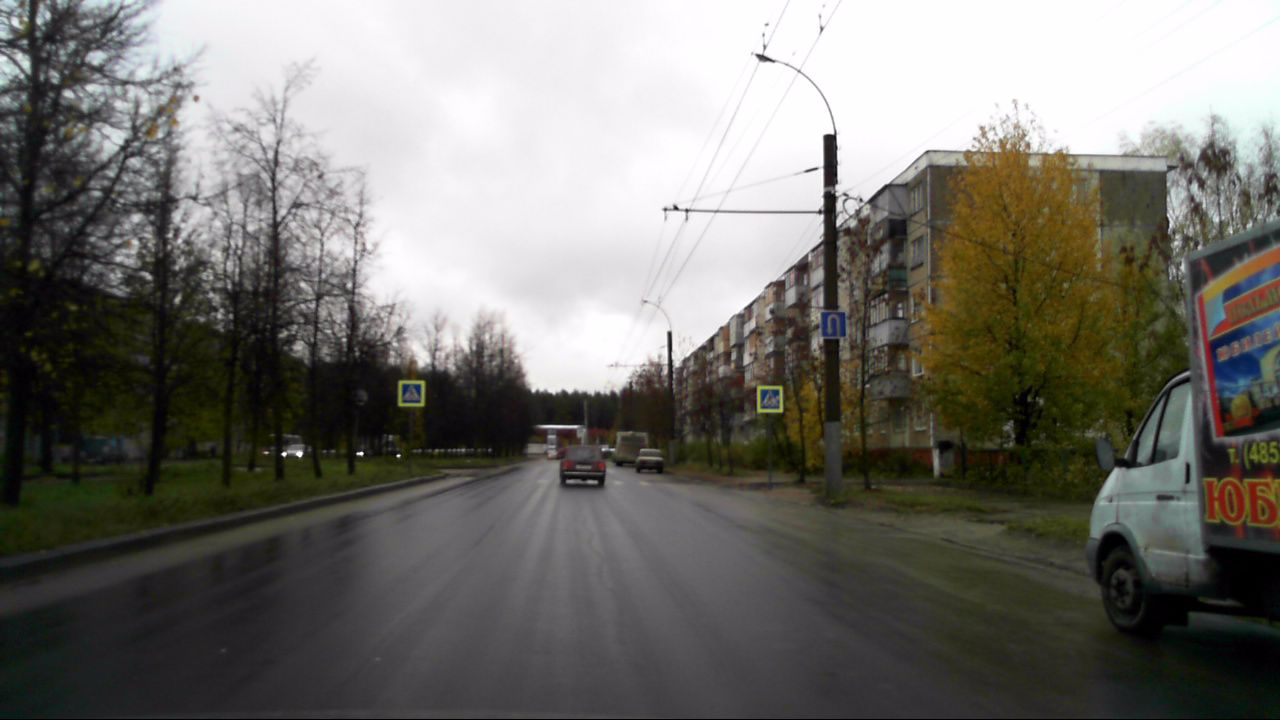U-turn: (821, 312, 846, 337)
